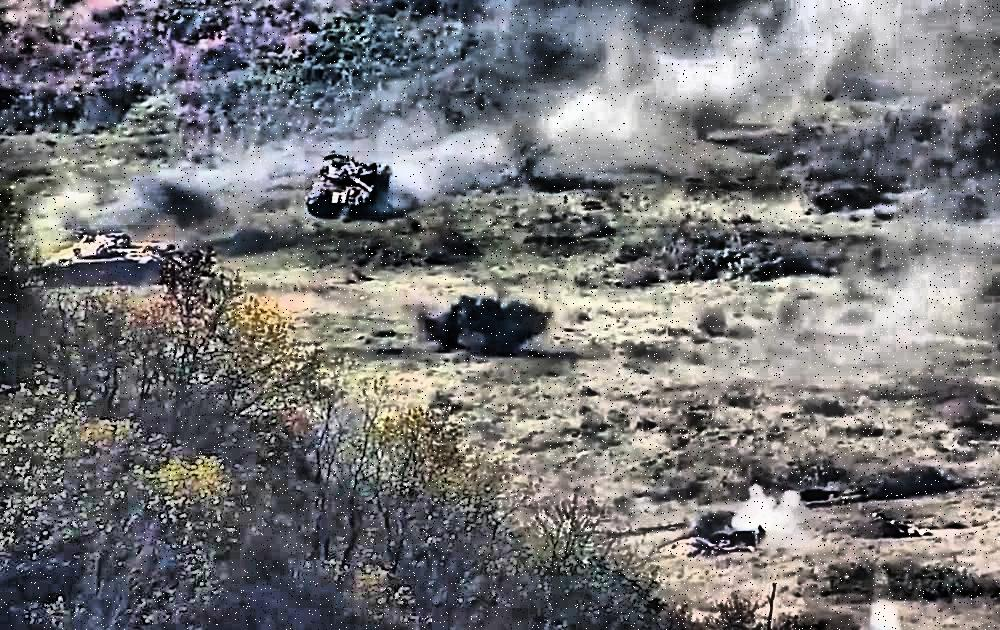military-vehicle: (36, 225, 175, 287), (305, 151, 393, 216)
